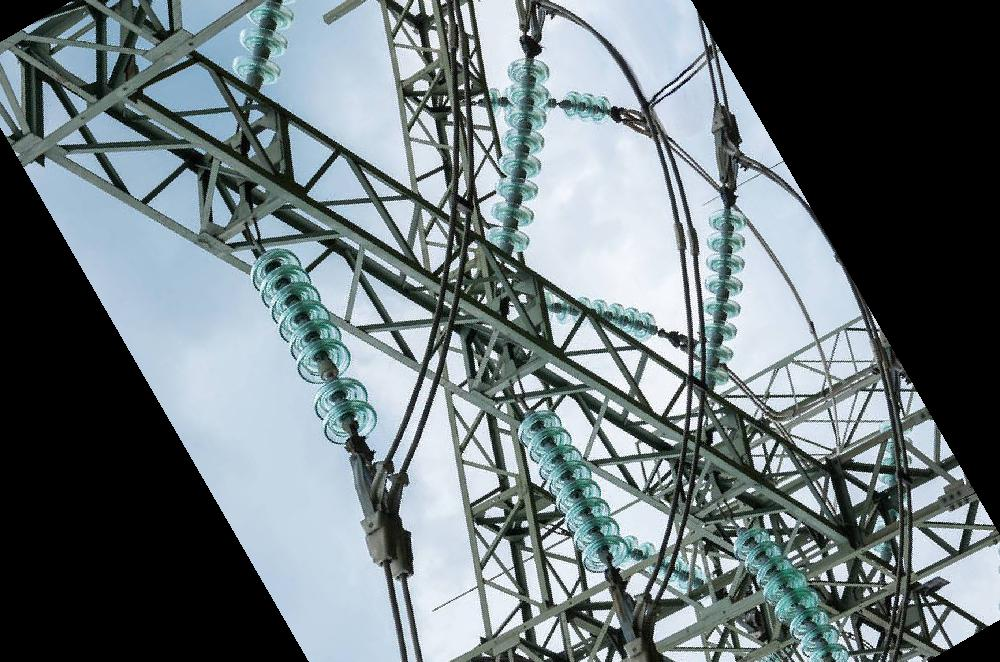insulator: (246, 243, 376, 449), (511, 406, 633, 576), (729, 524, 857, 662), (483, 55, 558, 255), (688, 204, 751, 387), (228, 1, 298, 89), (545, 290, 659, 344), (619, 533, 709, 596), (556, 87, 617, 125)
insulator_stringdrop: (290, 335, 373, 420)
